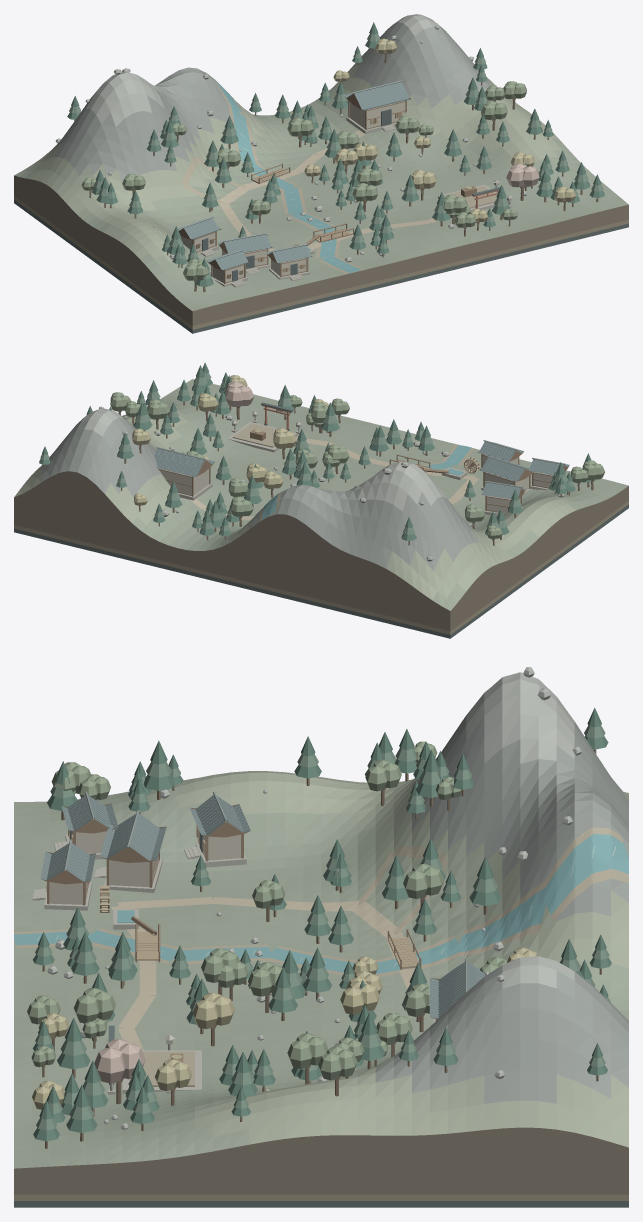
Rendered from mirror-valley.glb.
3 views of the same model, one above another, from view 1: azimuth 30°, elevation 25°; view 2: azimuth 150°, elevation 25°; view 3: azimuth 270°, elevation 25° (orthographic). The views are drawn at different scales.
Parts seen in each view (by area): view 1: terrain, vegetation, architecture, roofs, water, routes, details; view 2: terrain, vegetation, architecture, roofs, details, water, routes; view 3: terrain, vegetation, water, roofs, architecture, routes, details.
Boxes of the visible parts, box(x1,y1,x2,y2) form: terrain: box(14, 14, 628, 333); vegetation: box(67, 22, 604, 292); architecture: box(181, 100, 508, 287); roofs: box(178, 80, 411, 270); water: box(205, 72, 363, 273); routes: box(182, 130, 438, 251); details: box(55, 25, 562, 278); terrain: box(14, 379, 628, 638); vegetation: box(39, 362, 604, 545); architecture: box(158, 402, 553, 515); roofs: box(154, 440, 569, 499); details: box(99, 406, 564, 561); water: box(258, 444, 474, 522); routes: box(190, 437, 478, 520); terrain: box(14, 672, 628, 1207); vegetation: box(27, 707, 611, 1148); water: box(14, 827, 628, 976); roofs: box(40, 791, 485, 1019); architecture: box(32, 825, 437, 1093); routes: box(111, 846, 447, 1050); details: box(46, 667, 581, 1129).
Size of the model in its own units: 120 by 35.95 by 85.
